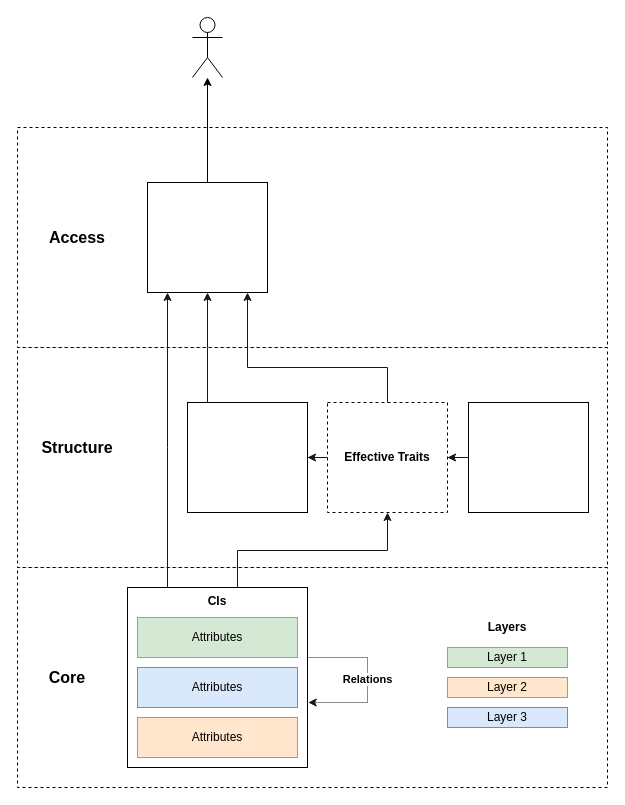
This 625x805 diagram has some shape labels left out. Each missing label, with the centre of its shape:
"GraphQL" goes at point (207, 237).
"Trait Entities" goes at point (247, 457).
"Traits" goes at point (528, 457).
